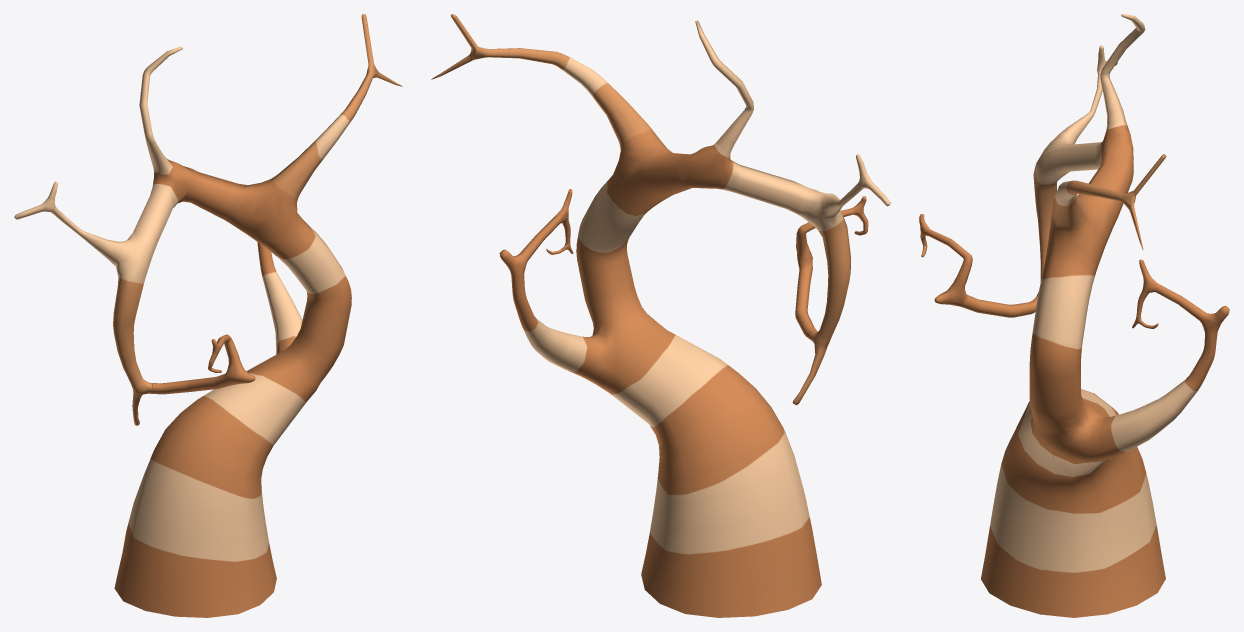
The model's file is Tree_Orange.glb.
3 renders of one model, left to right at view 1: azimuth 30°, elevation 25°; view 2: azimuth 150°, elevation 25°; view 3: azimuth 270°, elevation 25°, orthographic. The views are drawn at different scales.
Visible parts, largest first — view 1: tree_02 04, tree_02 04_tree 02_04_0.001; view 2: tree_02 04, tree_02 04_tree 02_04_0.001; view 3: tree_02 04_tree 02_04_0.001, tree_02 04.
Part boxes in pixels (bbox=[...]): tree_02 04: bbox=[16, 14, 397, 617]; tree_02 04_tree 02_04_0.001: bbox=[14, 14, 402, 616]; tree_02 04: bbox=[431, 14, 888, 617]; tree_02 04_tree 02_04_0.001: bbox=[434, 16, 890, 617]; tree_02 04_tree 02_04_0.001: bbox=[922, 20, 1229, 617]; tree_02 04: bbox=[919, 14, 1229, 616].
Size of the model in its own units: 0.2473 by 0.3056 by 0.1509.
2 materials, 2 textured.
